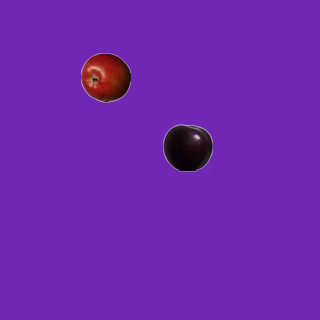Apple Braeburn: (80, 52, 130, 102)
Cherry Wax Black: (162, 122, 212, 172)
